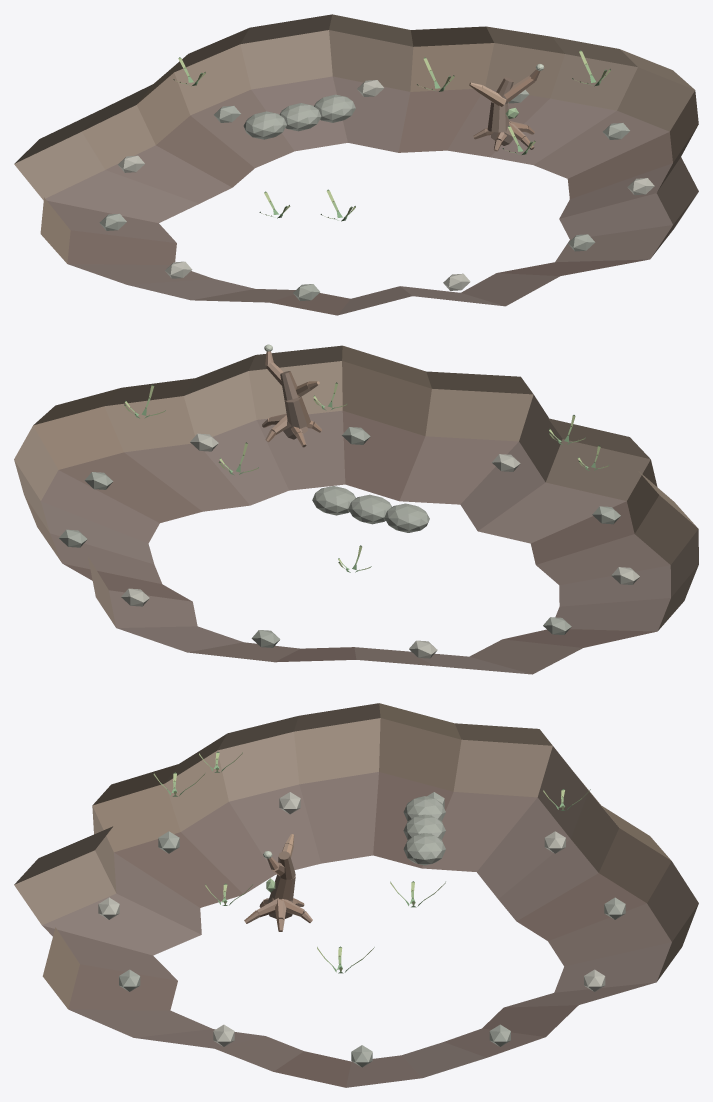
The model's file is moss_island_large.glb.
3 renders of one model, top to bottom at view 1: azimuth 30°, elevation 25°; view 2: azimuth 150°, elevation 25°; view 3: azimuth 270°, elevation 25°, orthographic. The views are drawn at different scales.
Visible parts, largest first — view 1: Faceted_earth_bank, Waterline_stones, Little_exposed_root_gnarled_roots, Pebble_patch_0, Pebble_patch_1, Pebble_patch_2; view 2: Faceted_earth_bank, Waterline_stones, Little_exposed_root_gnarled_roots, Pebble_patch_0, Pebble_patch_1, Pebble_patch_2; view 3: Faceted_earth_bank, Waterline_stones, Little_exposed_root_gnarled_roots, Pebble_patch_2, Pebble_patch_1, Pebble_patch_0.
Part boxes in pixels (bbox=[...]): Faceted_earth_bank: bbox=[14, 14, 698, 315]; Waterline_stones: bbox=[99, 80, 654, 300]; Little_exposed_root_gnarled_roots: bbox=[469, 69, 540, 151]; Pebble_patch_0: bbox=[243, 111, 286, 139]; Pebble_patch_1: bbox=[279, 103, 321, 131]; Pebble_patch_2: bbox=[314, 94, 355, 122]; Faceted_earth_bank: bbox=[14, 345, 698, 674]; Waterline_stones: bbox=[59, 427, 639, 658]; Little_exposed_root_gnarled_roots: bbox=[262, 351, 321, 447]; Pebble_patch_0: bbox=[384, 503, 429, 532]; Pebble_patch_1: bbox=[348, 494, 391, 524]; Pebble_patch_2: bbox=[312, 486, 355, 515]; Faceted_earth_bank: bbox=[14, 703, 698, 1087]; Waterline_stones: bbox=[98, 792, 625, 1067]; Little_exposed_root_gnarled_roots: bbox=[244, 834, 312, 931]; Pebble_patch_2: bbox=[403, 833, 445, 865]; Pebble_patch_1: bbox=[403, 814, 445, 839]; Pebble_patch_0: bbox=[403, 796, 445, 821].
Bounding box in the file's own units: 6.49 × 1.54 × 5.47.
